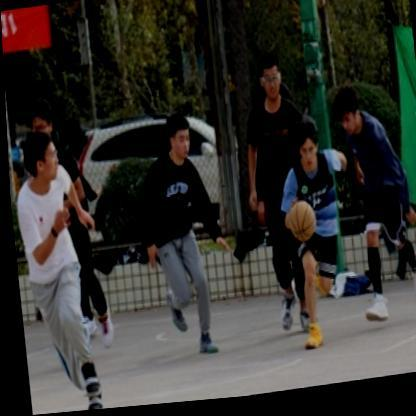basketball: (283, 204, 315, 249)
